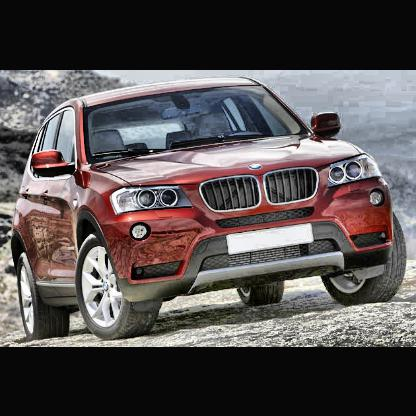BMW X3 SUV 2012: (12, 76, 409, 343)
